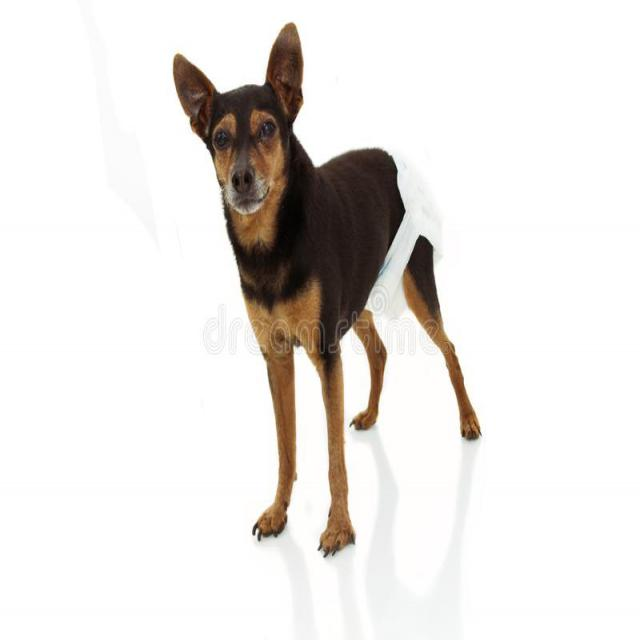eye: (256, 116, 277, 146), (212, 125, 232, 152)
